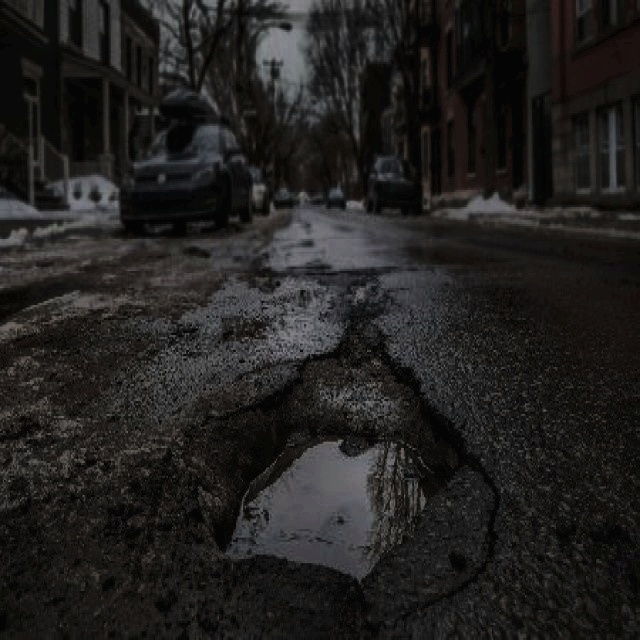Pothole: (202, 339, 469, 580), (0, 276, 71, 326)
